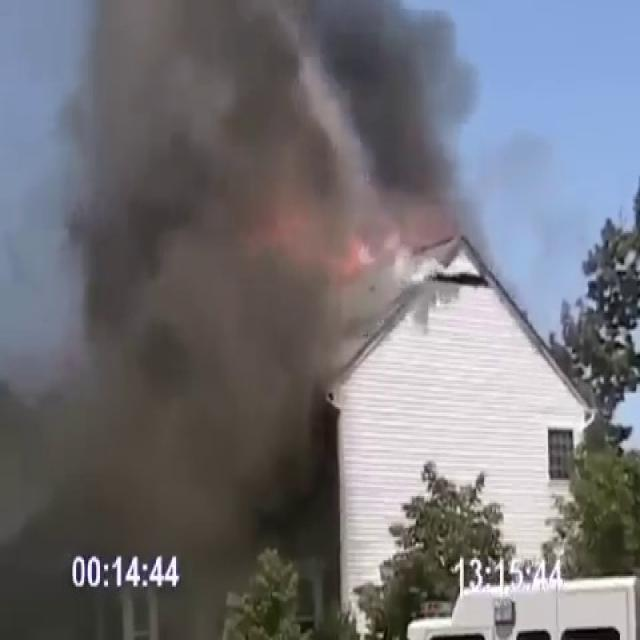Smoke: (36, 0, 478, 572)
